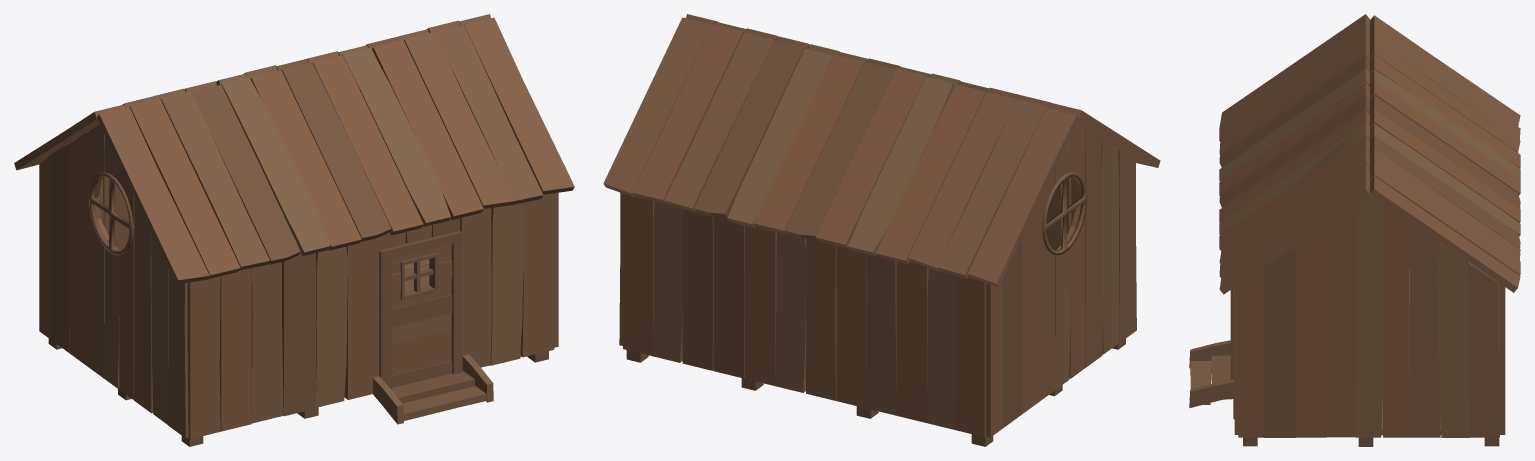
Rendered from House1.gltf.
3 renders of one model, left to right at view 1: azimuth 30°, elevation 25°; view 2: azimuth 150°, elevation 25°; view 3: azimuth 270°, elevation 25°, orthographic. The views are drawn at different scales.
Parts seen in each view (by area): view 1: House1_Detail_Low, House1_Destruction.002, House1_Destruction.004, House1_Destruction.006; view 2: House1_Detail_Low, House1_Destruction.004, House1_Destruction.002, House1_Destruction.005; view 3: House1_Detail_Low, House1_Destruction.002, House1_Destruction.006.
Part boxes in pixels (<box>): House1_Detail_Low: <box>14,14,574,446</box>; House1_Destruction.002: <box>127,91,330,255</box>; House1_Destruction.004: <box>51,144,128,372</box>; House1_Destruction.006: <box>338,22,465,134</box>; House1_Detail_Low: <box>603,14,1160,446</box>; House1_Destruction.004: <box>806,242,1055,446</box>; House1_Destruction.002: <box>823,86,1126,192</box>; House1_Destruction.005: <box>742,232,805,392</box>; House1_Detail_Low: <box>1189,14,1520,446</box>; House1_Destruction.002: <box>1219,43,1480,180</box>; House1_Destruction.006: <box>1291,123,1494,261</box>.
Size of the model in its own units: 6.59 by 4.63 by 5.26.
